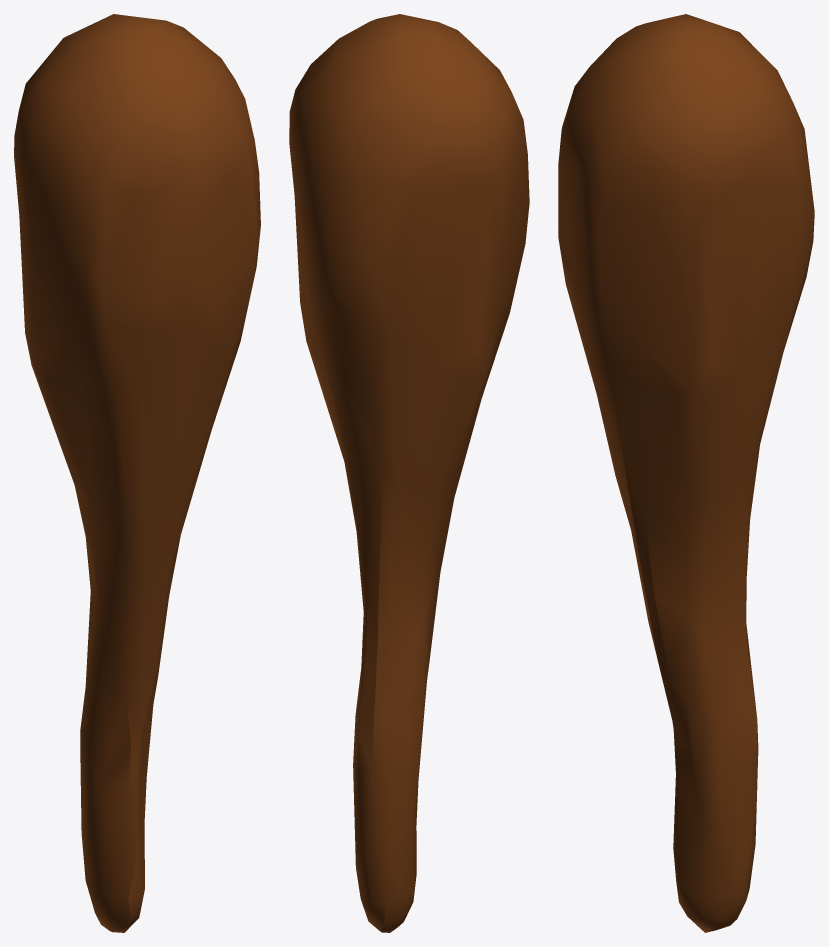
Rendered from kuoka.glb.
3 renders of one model, left to right at view 1: azimuth 30°, elevation 25°; view 2: azimuth 150°, elevation 25°; view 3: azimuth 270°, elevation 25°, orthographic. The views are drawn at different scales.
Parts seen in each view (by area): view 1: lazda; view 2: lazda; view 3: lazda.
Part boxes in pixels (x1=…): lazda: x1=14, y1=14, x2=260, y2=932; lazda: x1=289, y1=14, x2=529, y2=932; lazda: x1=558, y1=14, x2=814, y2=932.
Bounding box in the file's own units: 0.1658 × 0.6878 × 0.1762.
